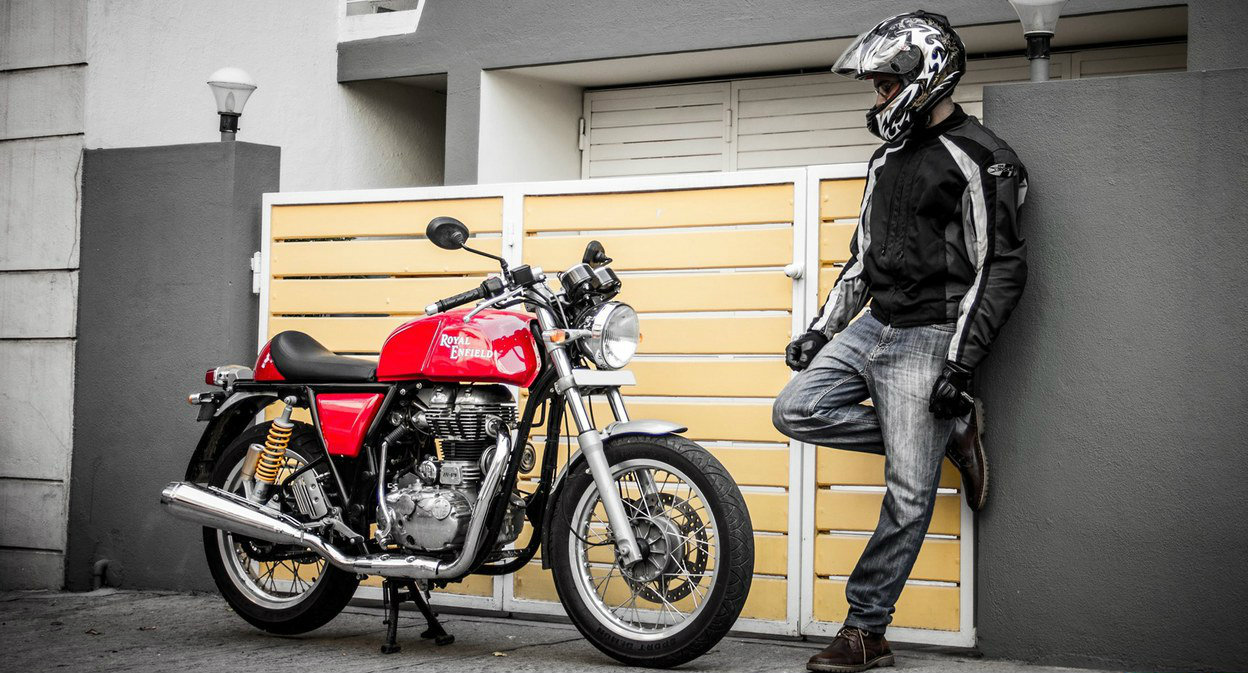helmet: (843, 3, 969, 134)
